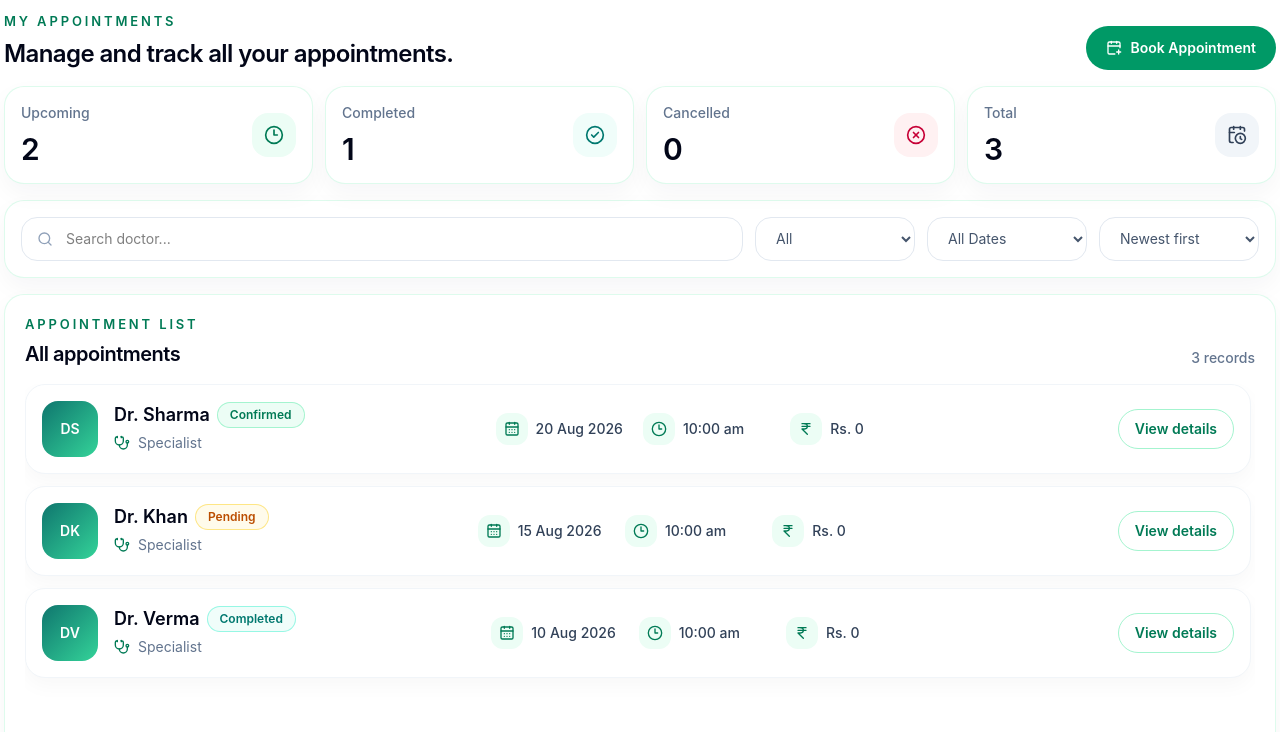
Test: Patient Appointments Flow › should sort appointments by oldest date
The width and height of the screenshot is (1280, 732).
Select "Oldest first" in the 3rd dropdown showing "Newest first". click: point(1179, 238)
box: [1099,216,1259,260]
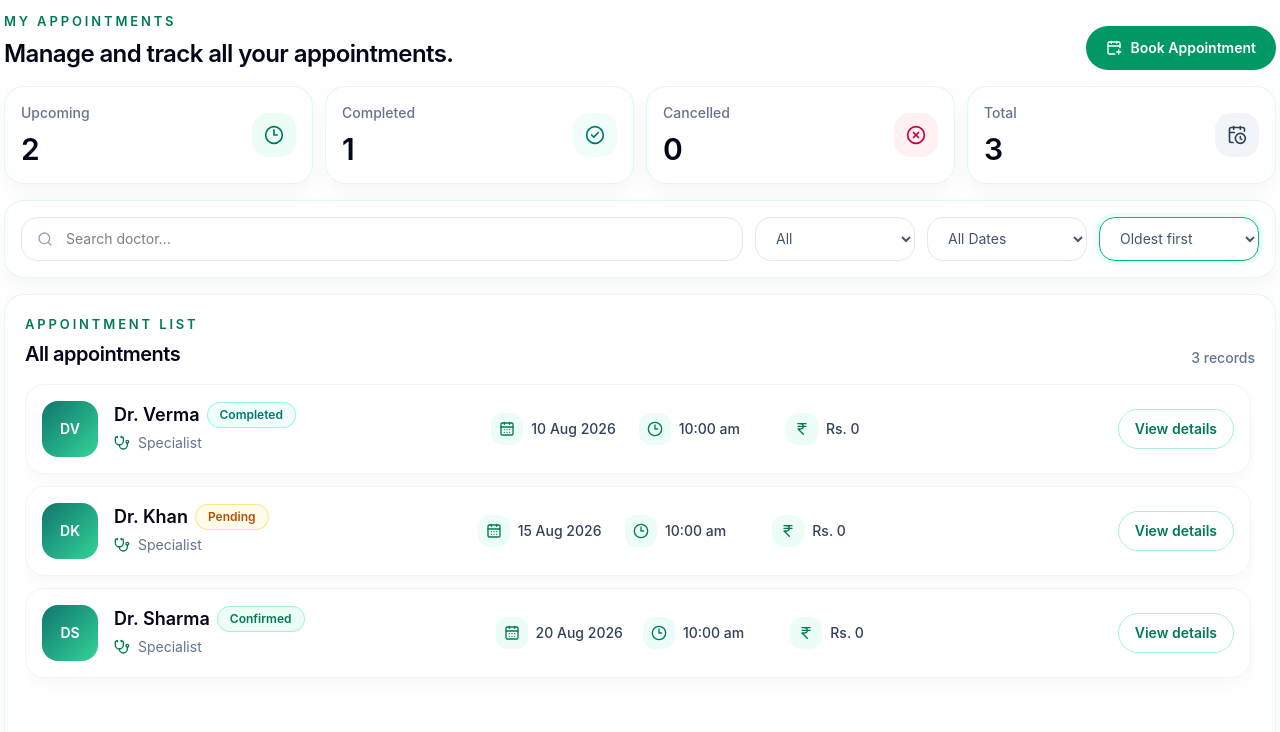
Now the elements "Dr." read "Dr. Verma", "Dr. Khan", "Dr. Sharma", in this order, box [114,401,200,429]; [114,503,188,531]; [114,605,210,633]
